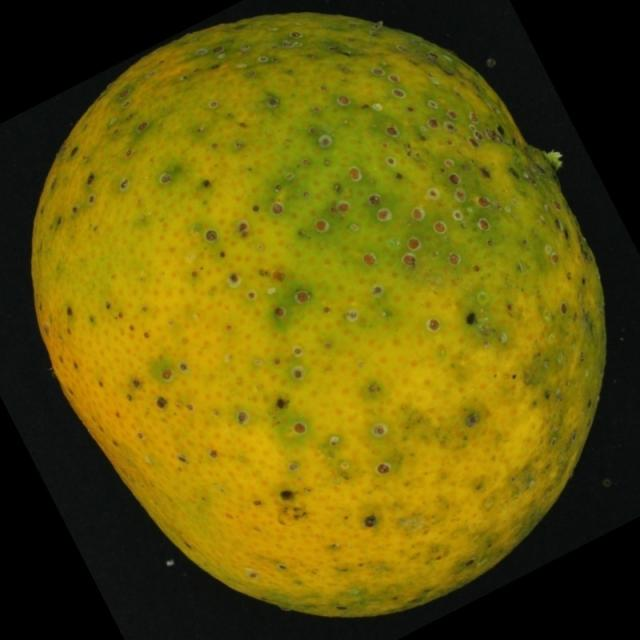grenning: (10, 4, 624, 631)
